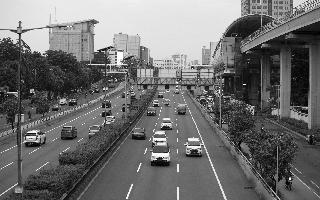mobil: (150, 142, 170, 166), (23, 130, 47, 146), (185, 138, 203, 156), (60, 124, 78, 140), (152, 130, 168, 146), (89, 125, 103, 140), (160, 115, 173, 131), (133, 126, 147, 140), (102, 114, 116, 125), (178, 103, 188, 117), (145, 107, 157, 118), (101, 108, 112, 118), (100, 100, 112, 108), (163, 98, 171, 108), (50, 105, 61, 112), (152, 99, 160, 107)
motor: (286, 169, 294, 189), (260, 122, 266, 132), (28, 111, 32, 119)
